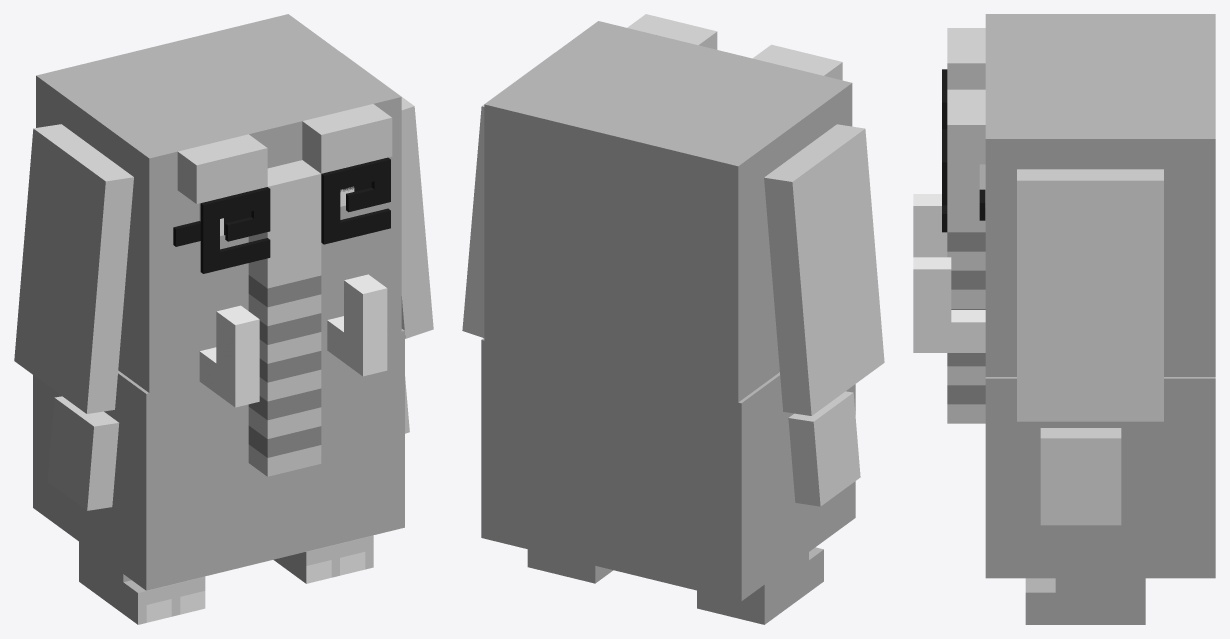
3 views of the same model, side by side, from view 1: azimuth 30°, elevation 25°; view 2: azimuth 150°, elevation 25°; view 3: azimuth 270°, elevation 25° (orthographic).
Parts seen in each view (by area): view 1: Ch_41_Head, Ch_41, Ch_41_Ear_L, Ch_41_Nose, Ch_41_Hand_L, Ch_41_Ear_R, Ch_41_Leg_L, Ch_41_Eye_03_L, Ch_41_Eye_03_R, Ch_41_Leg_R, Ch_41_Eye_02; view 2: Ch_41_Head, Ch_41, Ch_41_Ear_L, Ch_41_Hand_L, Ch_41_Leg_L, Ch_41_Ear_R, Ch_41_Leg_R; view 3: Ch_41_Head, Ch_41_Ear_R, Ch_41, Ch_41_Hand_R, Ch_41_Leg_R, Ch_41_Nose, Ch_41_Eye_03_R.
Part boxes in pixels (x1,y1,x2,y2): Ch_41_Head: (36,14,401,407); Ch_41: (33,329,404,590); Ch_41_Ear_L: (14,124,133,413); Ch_41_Nose: (248,369,321,476); Ch_41_Hand_L: (47,396,119,510); Ch_41_Ear_R: (342,53,433,338); Ch_41_Leg_L: (79,542,205,624); Ch_41_Eye_03_L: (200,187,270,273); Ch_41_Eye_03_R: (321,157,390,244); Ch_41_Leg_R: (273,535,373,583); Ch_41_Eye_02: (173,182,371,246); Ch_41_Head: (484,14,852,402); Ch_41: (481,338,855,601); Ch_41_Ear_L: (764,124,884,415); Ch_41_Hand_L: (788,391,860,506); Ch_41_Leg_L: (697,547,823,624); Ch_41_Ear_R: (462,53,553,337); Ch_41_Leg_R: (527,549,613,583); Ch_41_Head: (913,14,1215,376); Ch_41_Ear_R: (1017,169,1163,421); Ch_41: (985,377,1215,578); Ch_41_Hand_R: (1040,428,1121,525); Ch_41_Leg_R: (1025,578,1145,624); Ch_41_Nose: (947,353,985,423); Ch_41_Eye_03_R: (942,129,947,232).
Bounding box in the file's own units: 8.66 × 11.52 × 6.44.
